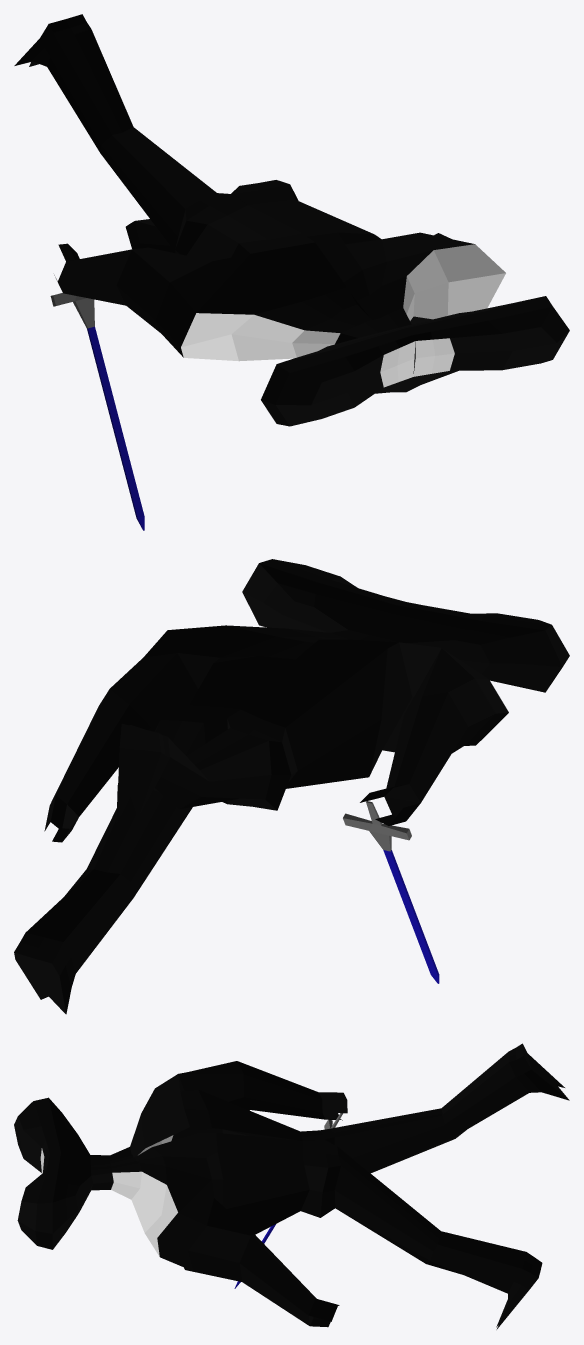
Rendered from Swordsman1w.obj.
3 renders of one model, top to bottom at view 1: azimuth 30°, elevation 25°; view 2: azimuth 150°, elevation 25°; view 3: azimuth 270°, elevation 25°, orthographic. The views are drawn at different scales.
Visible parts, largest first — view 1: Cube, Cube.001_Sword; view 2: Cube, Cube.001_Sword; view 3: Cube.
Boxes of the visible parts, x1,y1,x2,y2 form: Cube: [14, 14, 569, 426]; Cube.001_Sword: [50, 293, 144, 530]; Cube: [14, 559, 569, 1014]; Cube.001_Sword: [343, 801, 439, 983]; Cube: [14, 1043, 569, 1329].
Size of the model in its own units: 0.9395 by 0.8793 by 1.58.
